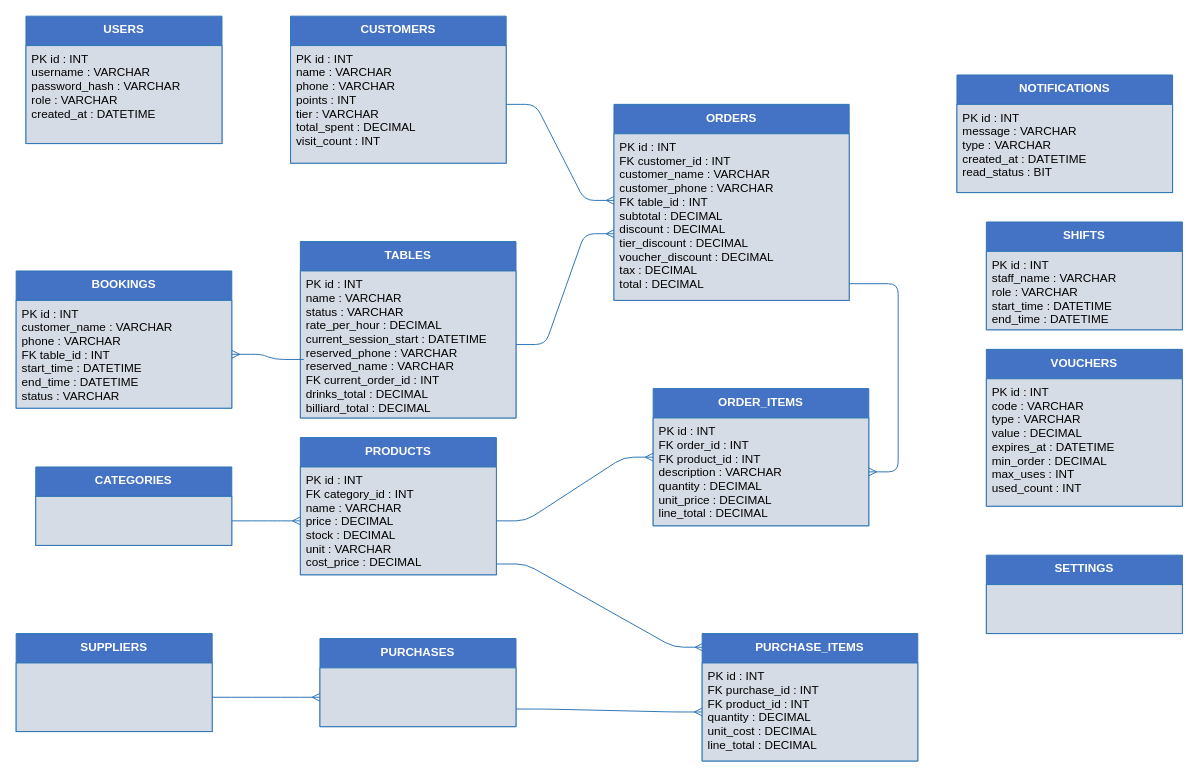
This 1199x777 diagram has some shape labels left out. The shapes that lost their labels are listed below. From the top down, each one's centre as x and y in pixels, then its label:
(133,520): PK id : INT name : VARCHAR
(1083,609): PK key_name : VARCHAR value : VARCHAR
(113,697): PK id : INT name : VARCHAR phone : VARCHAR address : VARCHAR
(417,697): PK id : INT FK supplier_id : INT total : DECIMAL created_at : DATETIME
